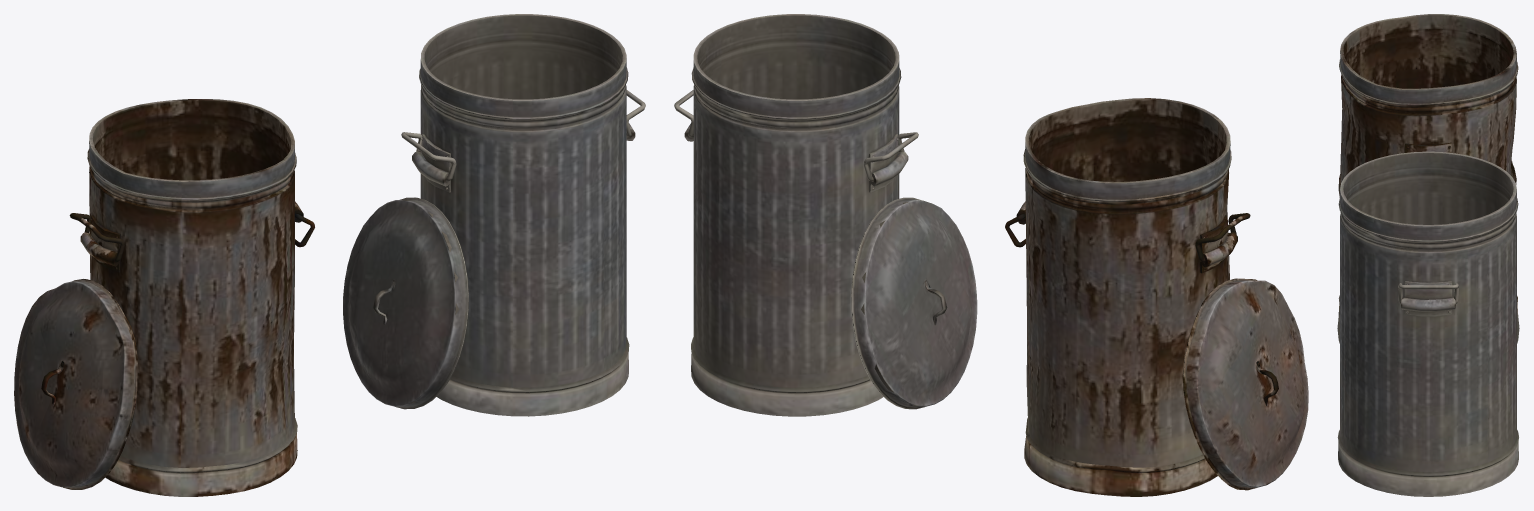
Rendered from trash_can.glb.
3 views of the same model, side by side, from view 1: azimuth 30°, elevation 25°; view 2: azimuth 150°, elevation 25°; view 3: azimuth 270°, elevation 25° (orthographic). The views are drawn at different scales.
Visible parts, largest first — view 1: metal_trash_can, metal_trash_can_rust, metal_trash_can_lid, metal_trash_can_rust_lid; view 2: metal_trash_can, metal_trash_can_rust, metal_trash_can_lid, metal_trash_can_rust_lid; view 3: metal_trash_can, metal_trash_can_rust, metal_trash_can_handle_right.
Part boxes in pixels (x1=…): metal_trash_can: x1=412, y1=14, x2=635, y2=416; metal_trash_can_rust: x1=80, y1=99, x2=303, y2=496; metal_trash_can_lid: x1=343, y1=197, x2=468, y2=409; metal_trash_can_rust_lid: x1=14, y1=279, x2=137, y2=489; metal_trash_can: x1=684, y1=14, x2=908, y2=416; metal_trash_can_rust: x1=1016, y1=98, x2=1237, y2=496; metal_trash_can_lid: x1=851, y1=197, x2=977, y2=409; metal_trash_can_rust_lid: x1=1183, y1=278, x2=1308, y2=490; metal_trash_can: x1=1337, y1=151, x2=1518, y2=496; metal_trash_can_rust: x1=1338, y1=14, x2=1518, y2=316; metal_trash_can_handle_right: x1=1398, y1=283, x2=1458, y2=303.
Bounding box in the file's own units: 1.78 × 0.9062 × 0.5543.
Materials: 3 (3 with a texture image).
